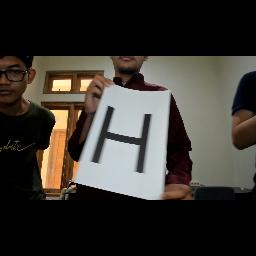h: (90, 100, 154, 176)
